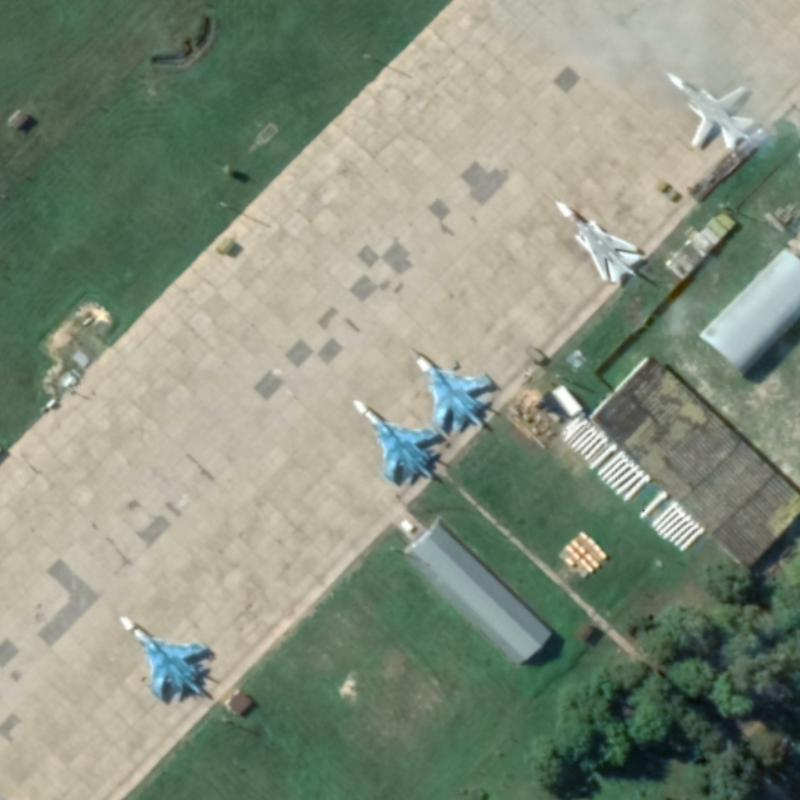A19: (349, 397, 441, 489), (116, 613, 209, 703), (408, 346, 497, 436)
A20: (552, 197, 642, 284), (663, 69, 755, 150)
